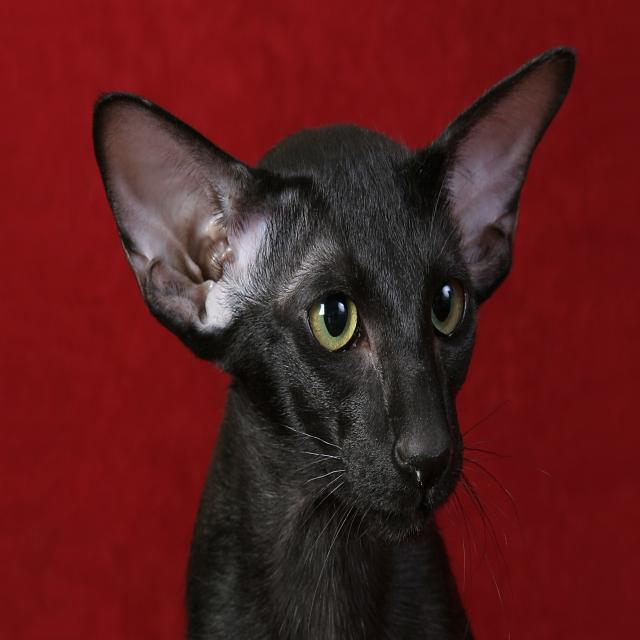Oriental: (86, 38, 579, 640)
